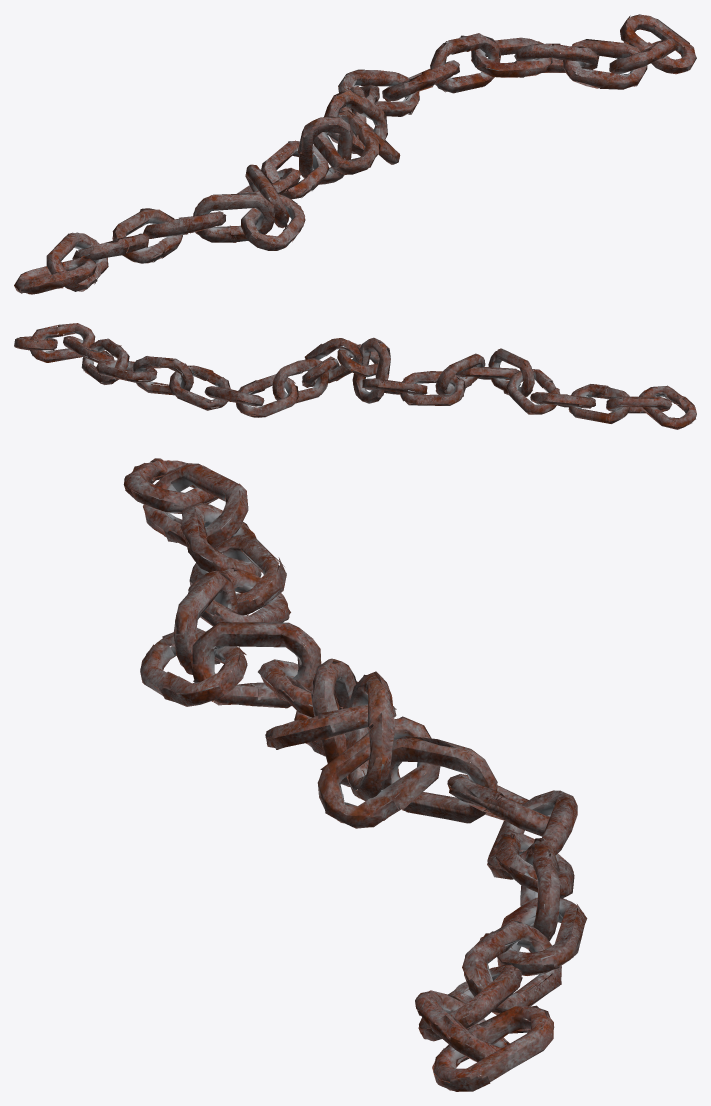
File: rusty_chains.glb
3 views of the same model, one above another, from view 1: azimuth 30°, elevation 25°; view 2: azimuth 150°, elevation 25°; view 3: azimuth 270°, elevation 25° (orthographic). The views are drawn at different scales.
Visible parts, largest first — view 1: Chain_Torus.024; view 2: Chain_Torus.024; view 3: Chain_Torus.024.
Part boxes in pixels (left/top/right/bottom): Chain_Torus.024: left=14, top=14, right=696, bottom=294; Chain_Torus.024: left=14, top=323, right=696, bottom=429; Chain_Torus.024: left=123, top=458, right=587, bottom=1091.
Bounding box in the file's own units: 2 × 0.2084 × 0.6673.
Materials: 1 (1 with a texture image).
